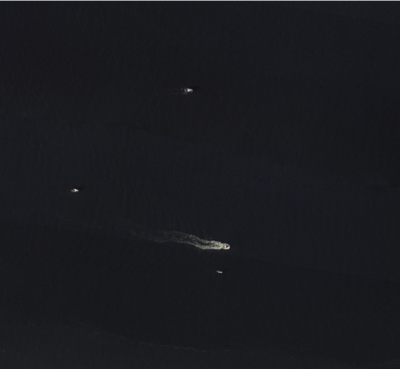boat: (223, 244, 231, 248), (72, 188, 80, 192), (185, 88, 193, 92), (217, 270, 223, 273)
